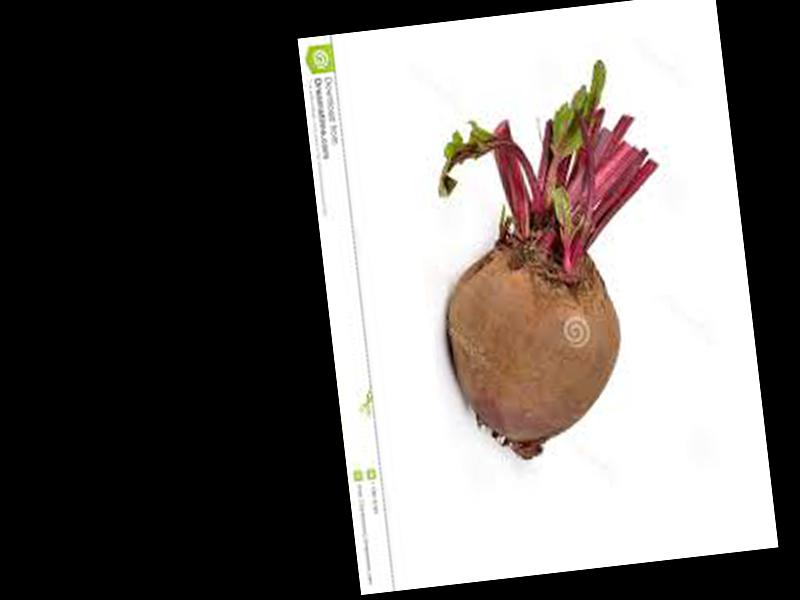Beet: (421, 57, 687, 467)
